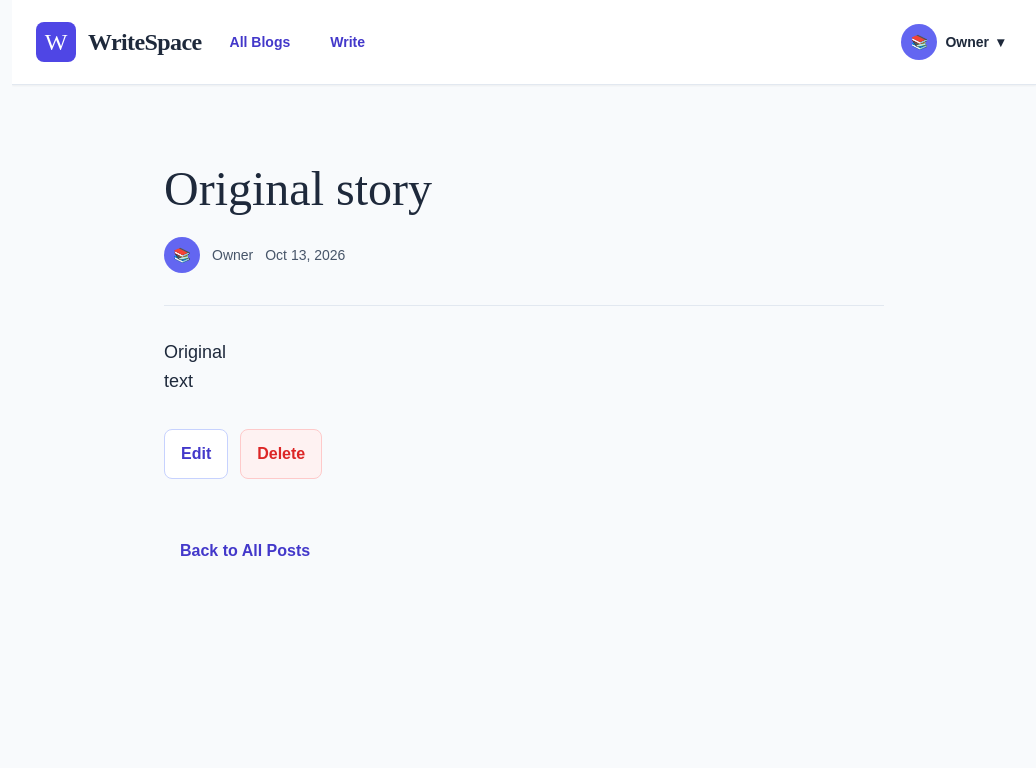
Test: canceled confirmation leaves state intact, confirmed deletion removes only target as owner
Click the button "Delete" at point(281, 454), box 240,428 -> 322,478
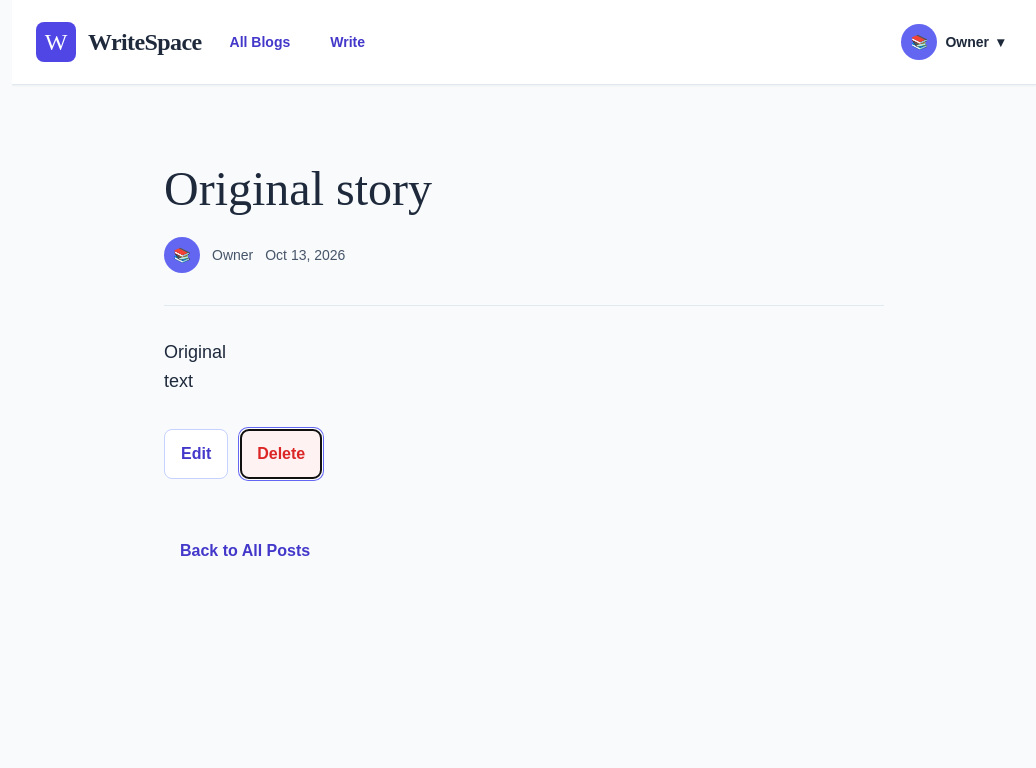
Expected: the heading "Original story" is shown, 164,162 -> 432,215
Click the button "Delete" at point(281, 454), box 240,428 -> 322,478
(page scrolled)
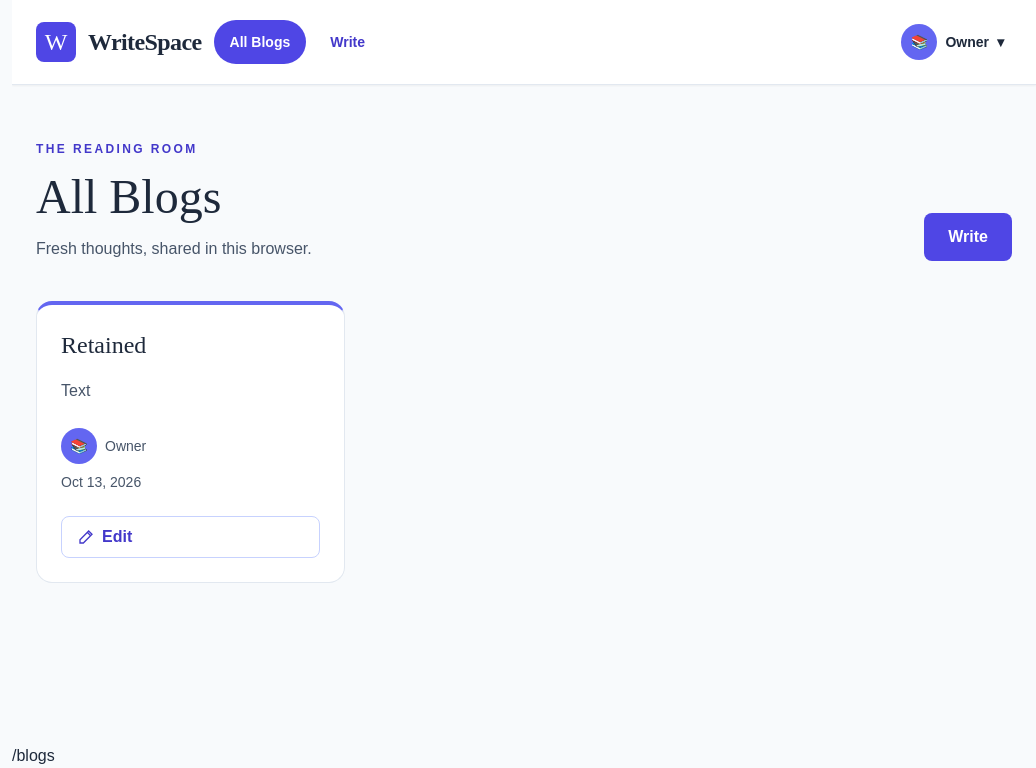
Now the text named "Current route" reads "/blogs", box 12,747 -> 55,764
